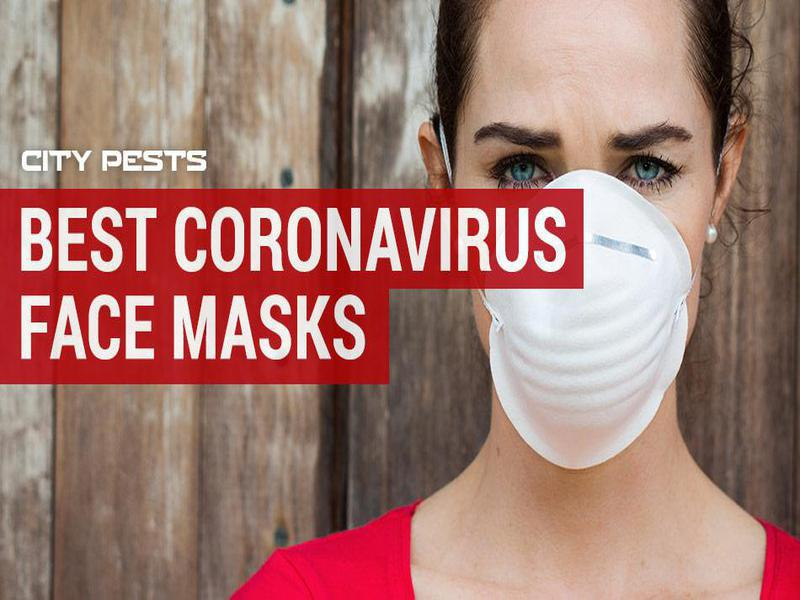with_mask: (450, 1, 724, 468)
